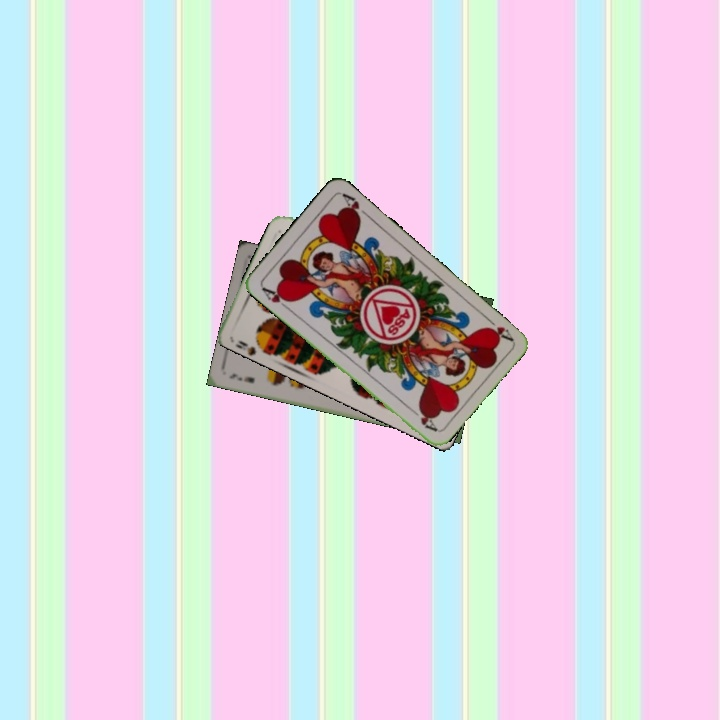E7: (225, 369, 257, 386)
HA: (480, 312, 515, 343), (257, 283, 293, 313)
S9: (232, 334, 269, 356)
